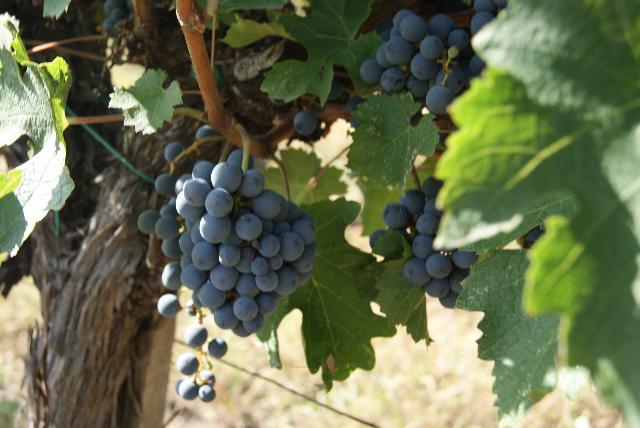grapes: (175, 150, 318, 336), (360, 9, 485, 115), (381, 176, 479, 309), (138, 174, 182, 291)
